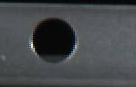holes: (29, 16, 79, 64)
